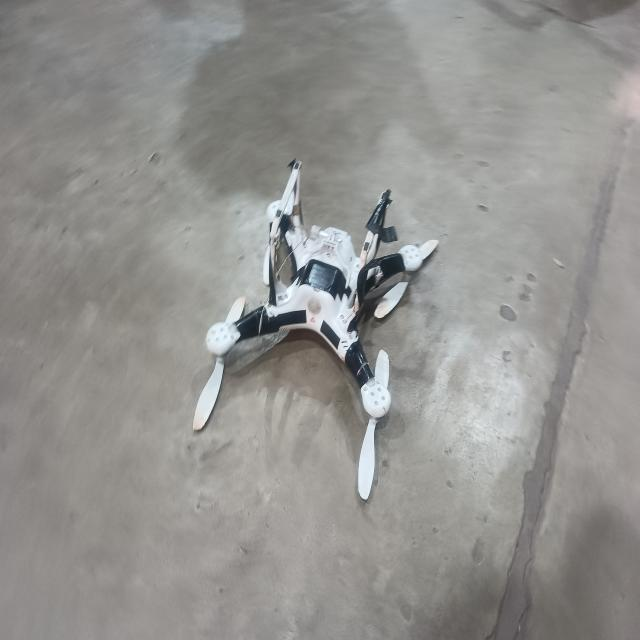drone: (192, 144, 438, 504)
